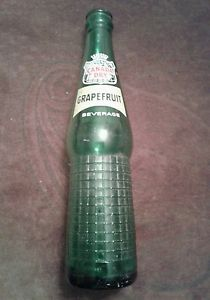Rec_Glass: (61, 5, 149, 288)
